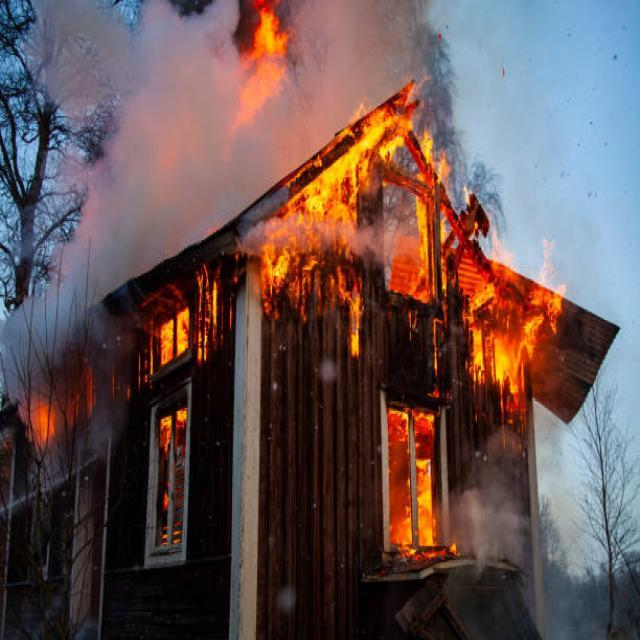Fire: (285, 106, 564, 550), (224, 0, 309, 103), (146, 300, 228, 382)
Smoke: (102, 0, 390, 231), (36, 214, 148, 395), (462, 430, 541, 558)
